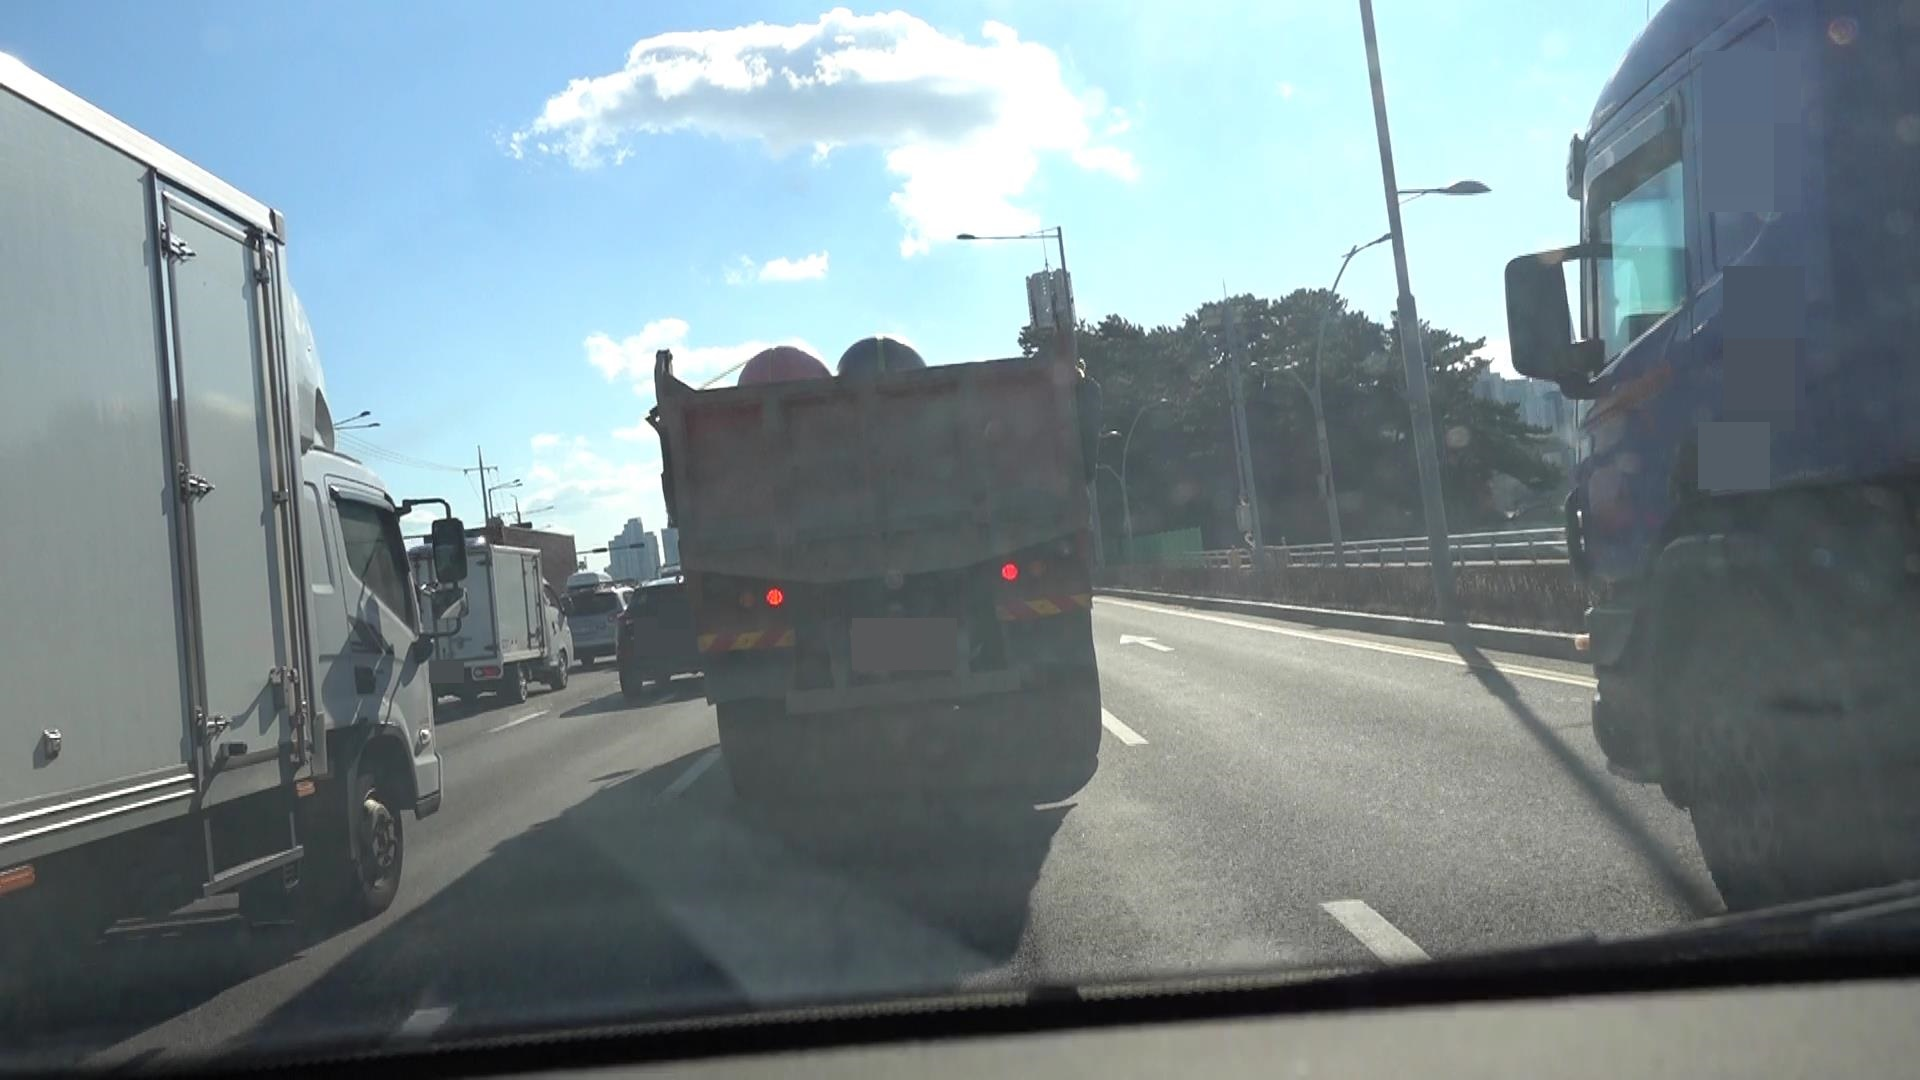불법차량: (645, 323, 1104, 807)
